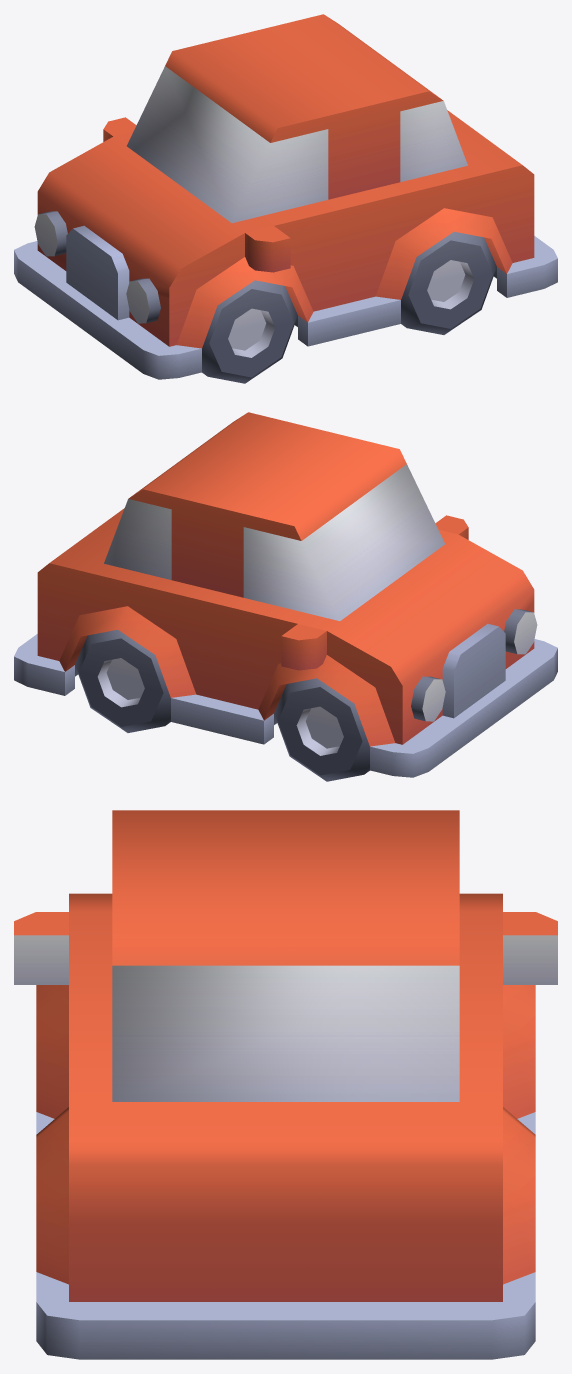
The model's file is vehicle.glb.
3 renders of one model, top to bottom at view 1: azimuth 30°, elevation 25°; view 2: azimuth 150°, elevation 25°; view 3: azimuth 270°, elevation 25°, orthographic. The views are drawn at different scales.
Parts seen in each view (by area): view 1: wheel-back-left; view 2: wheel-back-left; view 3: wheel-back-left.
Part boxes in pixels (x1,y1,x2,y2): wheel-back-left: (14, 14, 557, 383); wheel-back-left: (14, 412, 557, 781); wheel-back-left: (14, 810, 557, 1359).
Size of the model in its own units: 1.42 by 0.777 by 0.99.
1 material, 1 textured.
